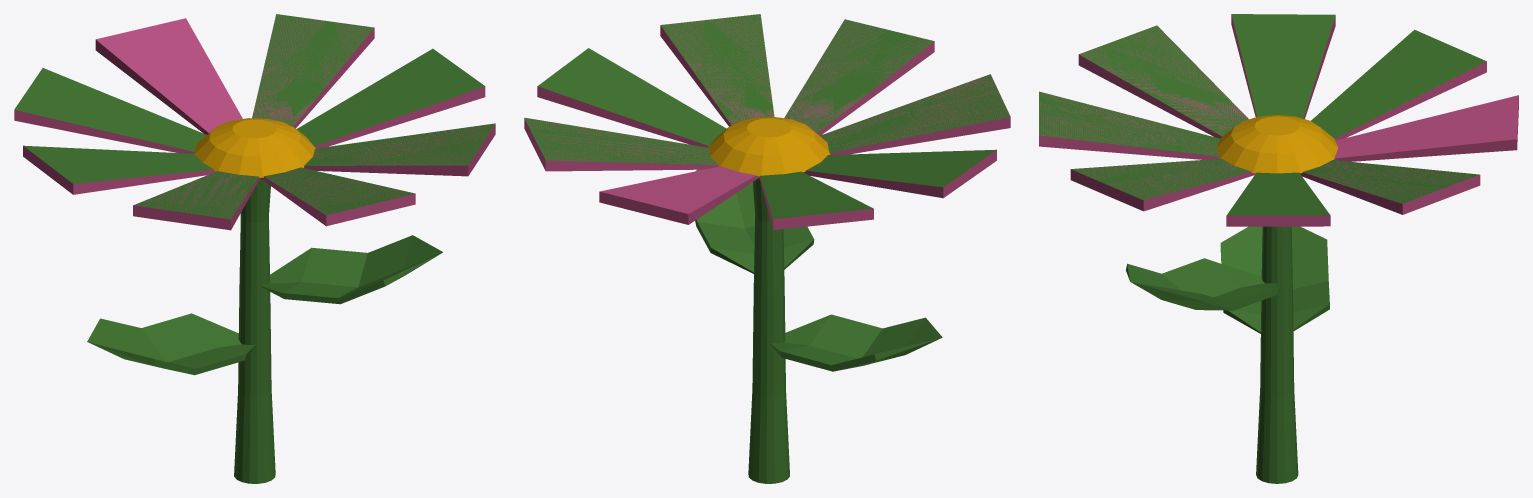
The model's file is Flowersrosa.glb.
3 renders of one model, left to right at view 1: azimuth 30°, elevation 25°; view 2: azimuth 150°, elevation 25°; view 3: azimuth 270°, elevation 25°, orthographic.
Parts seen in each view (by area): view 1: Cube; view 2: Cube; view 3: Cube.
Boxes of the visible parts, x1,y1,x2,y2 form: Cube: (14,14,495,483); Cube: (524,14,1010,483); Cube: (1039,14,1518,483).
Bounding box in the file's own units: 13.87 × 11.57 × 13.96.
